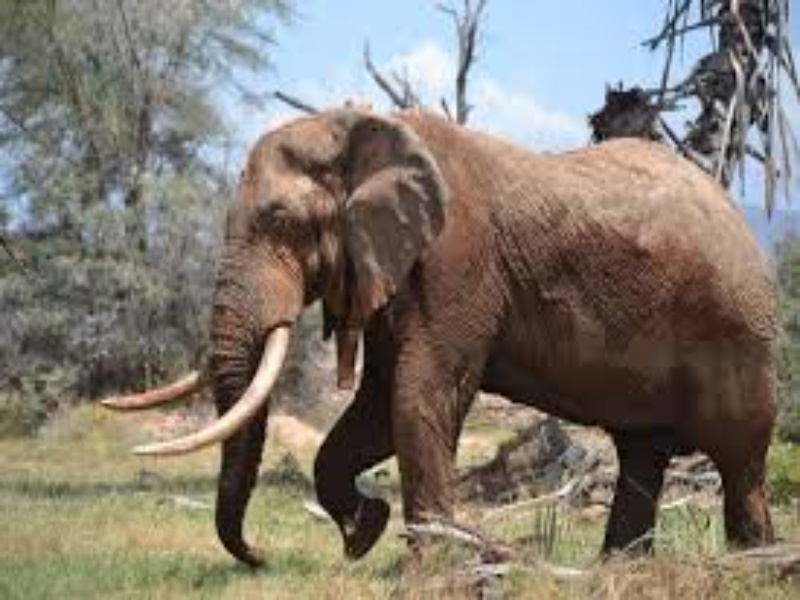elephant: (107, 106, 776, 582)
